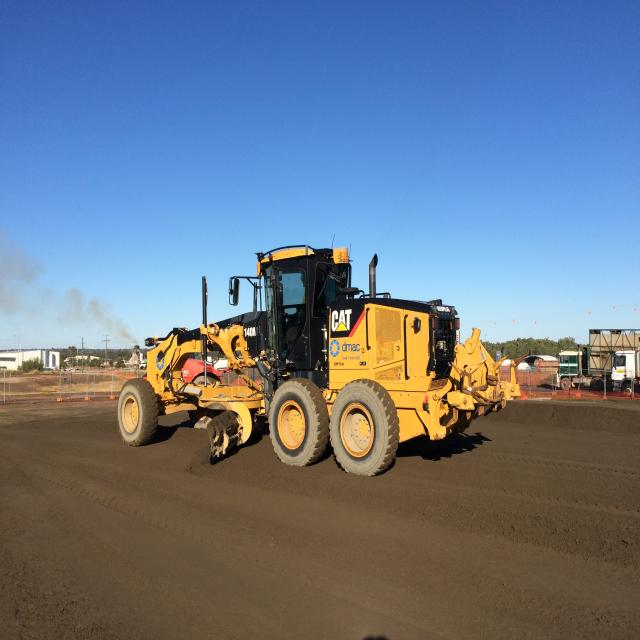buldozerpayloadergrader: (107, 243, 524, 492)
